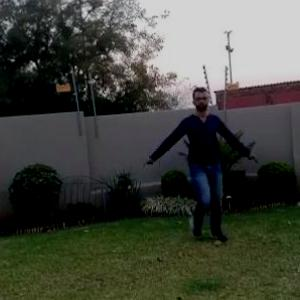land: (147, 95, 245, 224)
